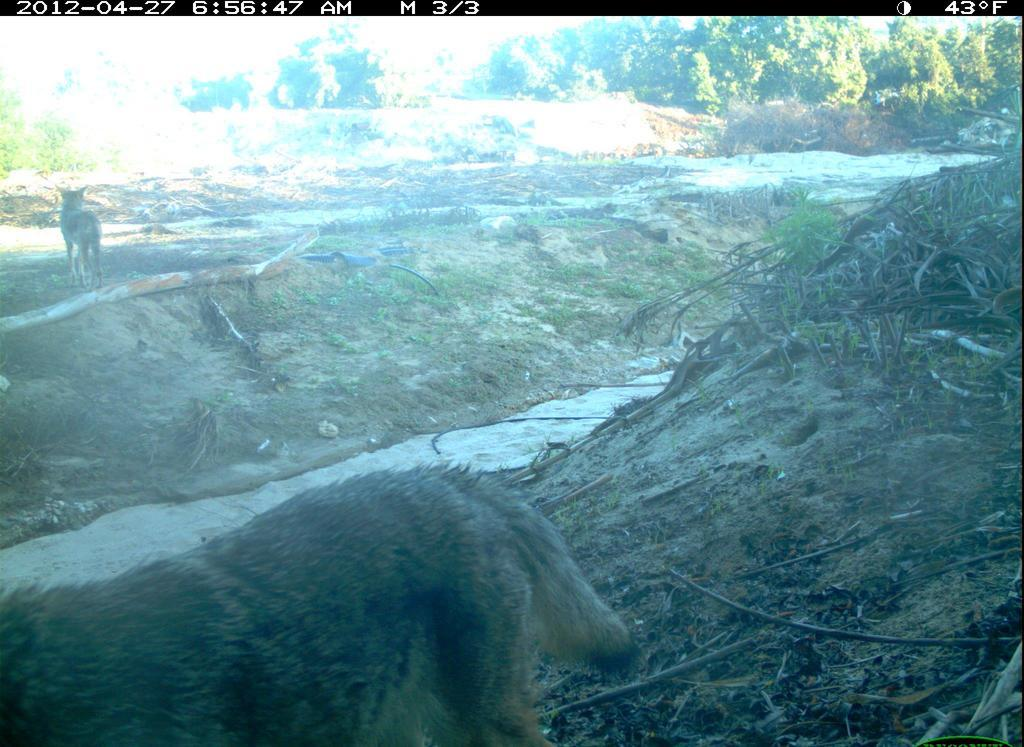coyote: (1, 455, 641, 747), (56, 186, 111, 291)
